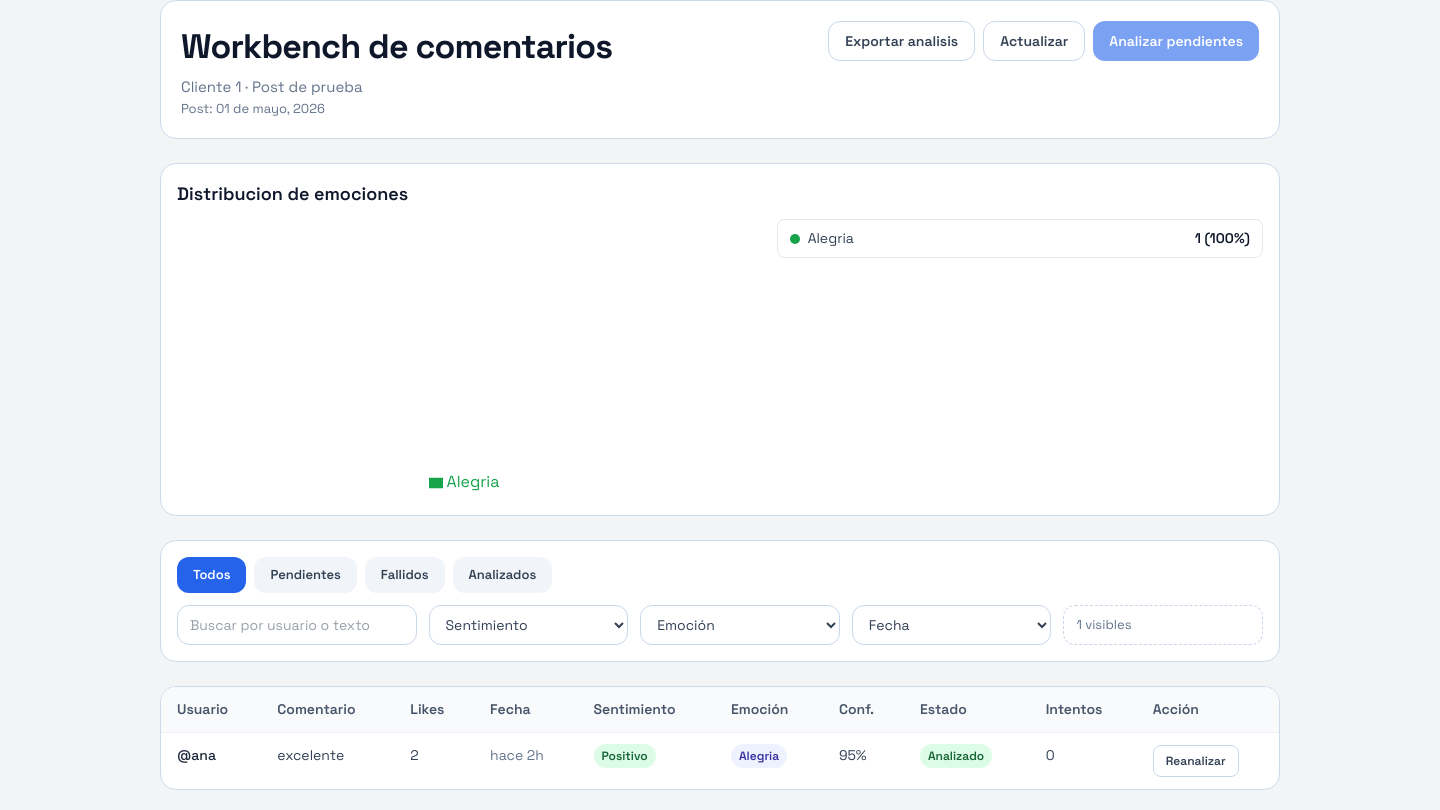
CommentAnalysisTable export › valida objetivo requerido
This screenshot has width=1440, height=810.
Click the button "Exportar analisis" at [902, 41], box 828,21 -> 975,61
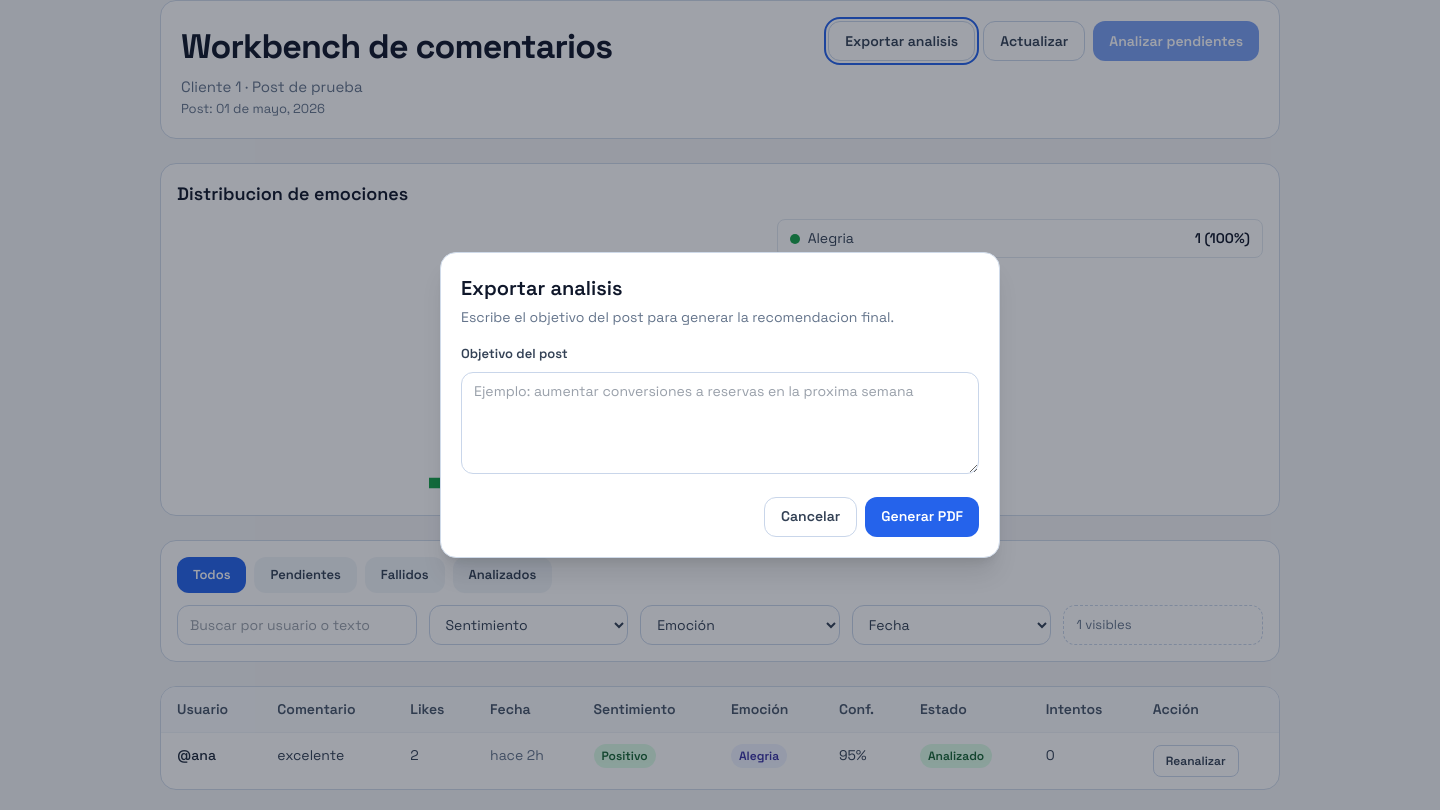
Click the button "Generar PDF" at [922, 517], box 865,497 -> 979,537
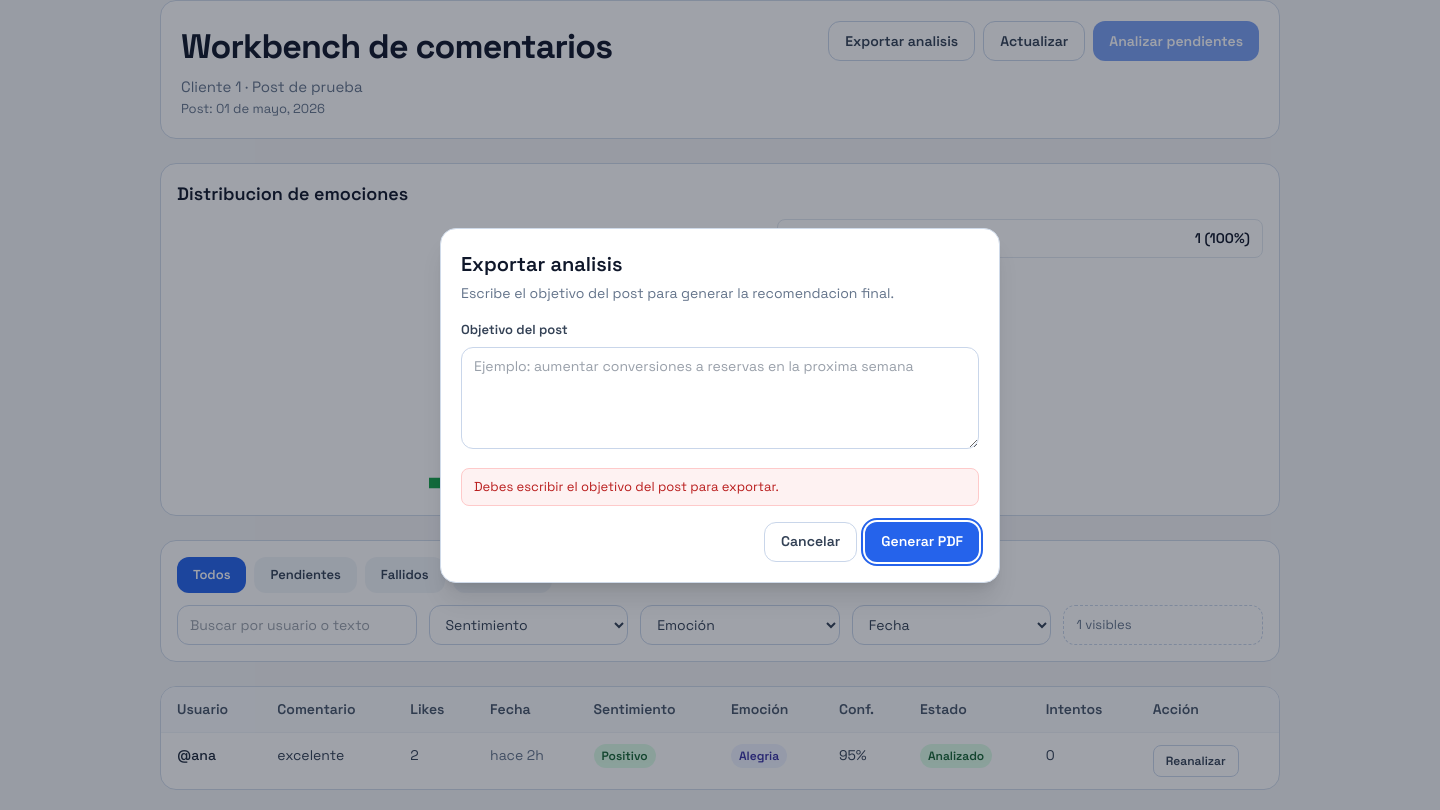
Check: the text "Debes escribir el objetivo del post para exportar." is shown, box 461,468 -> 979,506
